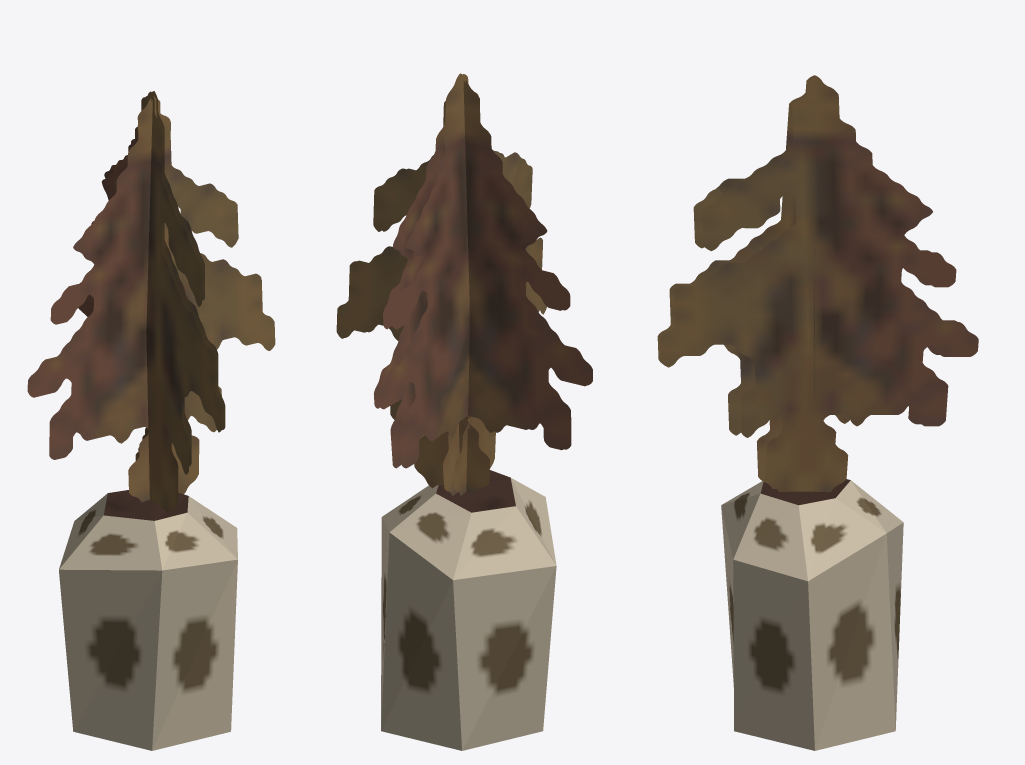
File: SM_VaseSprig.fbx
3 renders of one model, left to right at view 1: azimuth 30°, elevation 25°; view 2: azimuth 150°, elevation 25°; view 3: azimuth 270°, elevation 25°, orthographic. The views are drawn at different scales.
Visible parts, largest first — view 1: VaseSprig_Sprig, VaseSprig_Visual; view 2: VaseSprig_Sprig, VaseSprig_Visual; view 3: VaseSprig_Sprig, VaseSprig_Visual.
Part boxes in pixels (box(x1,y1,x2,y2)): VaseSprig_Sprig: box(27, 91, 275, 512); VaseSprig_Visual: box(59, 490, 237, 750); VaseSprig_Sprig: box(336, 73, 592, 495); VaseSprig_Visual: box(381, 470, 556, 750); VaseSprig_Sprig: box(657, 75, 978, 492); VaseSprig_Visual: box(721, 479, 903, 750).
Bounding box in the file's own units: 0.14 × 0.3027 × 0.1614.
